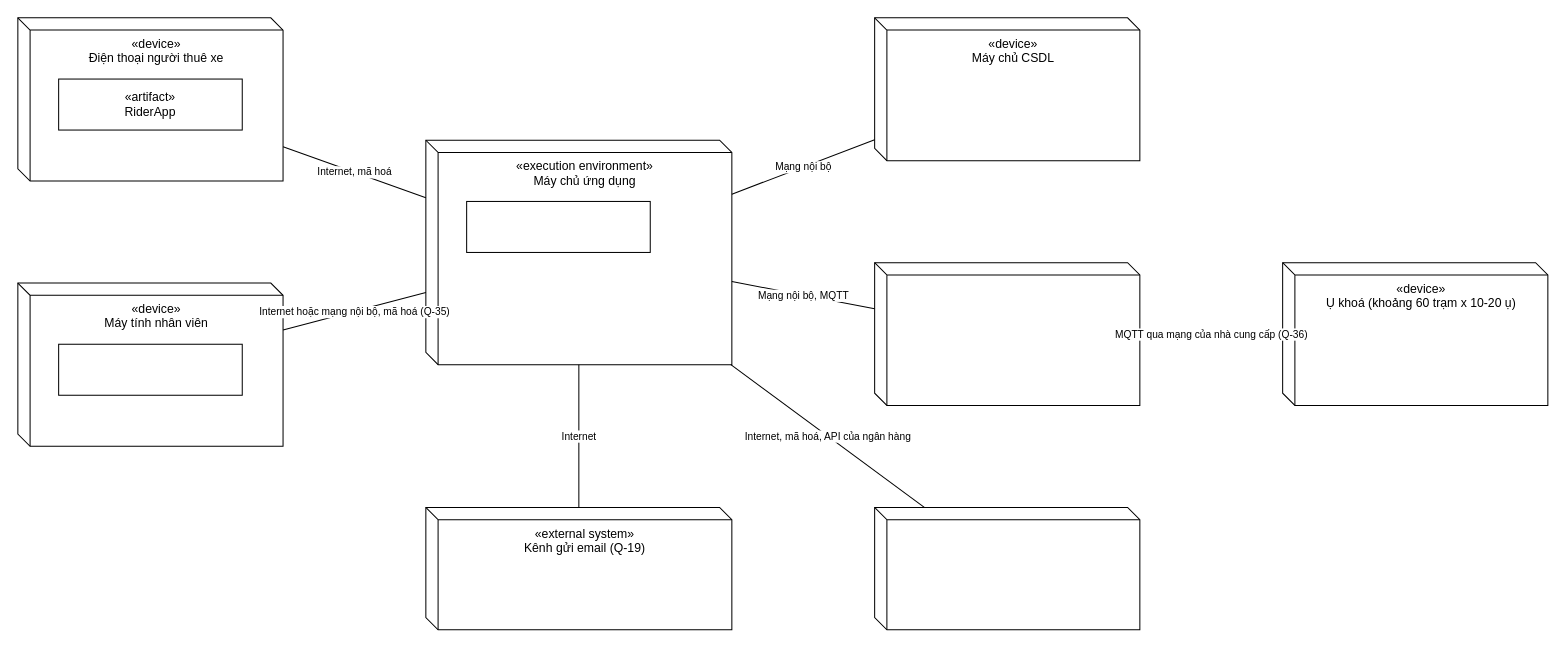
The diagram is 1566 pixels wide and 648 high, and some of its shapes have lost their labels. The centre of each missing label's shape, as x and y in pixels:
"«artifact» CityBikeServer" goes at (558,226).
"«artifact» StaffWeb (trình duyệt)" goes at (150,369).
"«execution environment» MQTT broker" goes at (1007,333).
"«external system» Cổng thanh toán ngân hàng" goes at (1007,568).
